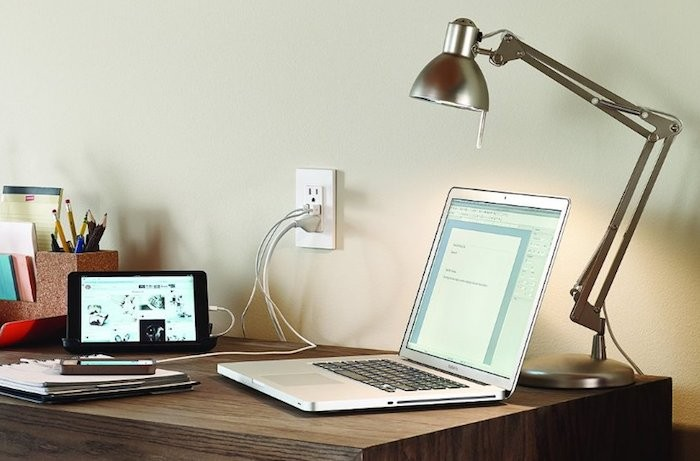outlet: (305, 183, 323, 204)
